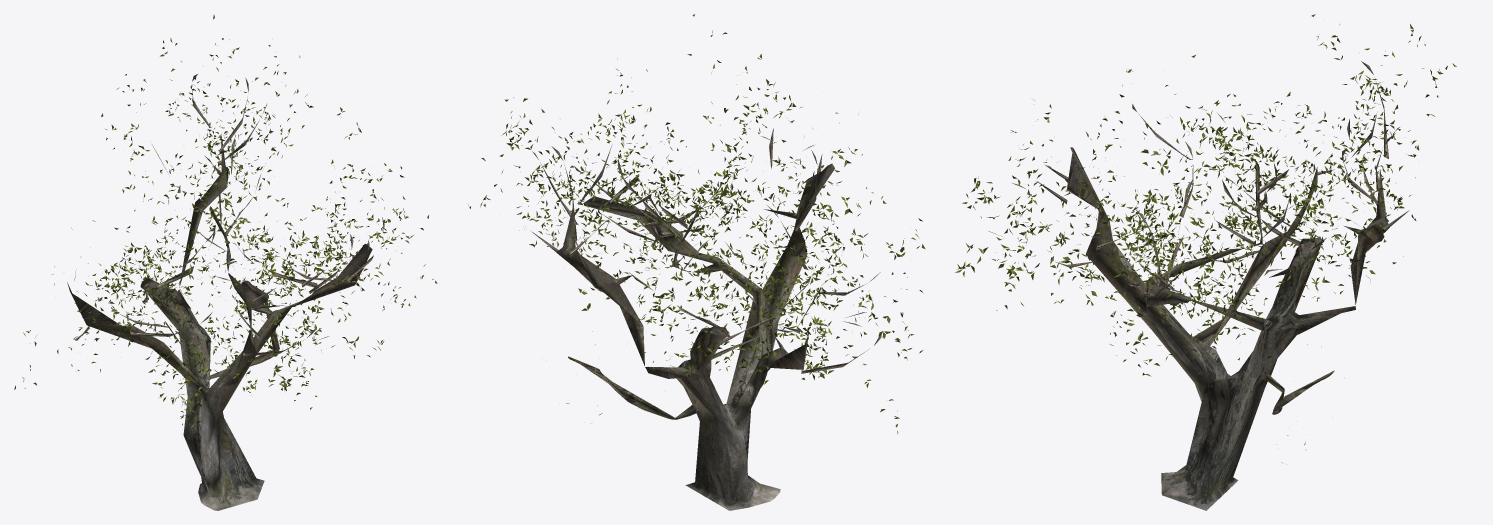
Rendered from island_tree_01.light.glb.
3 renders of one model, left to right at view 1: azimuth 30°, elevation 25°; view 2: azimuth 150°, elevation 25°; view 3: azimuth 270°, elevation 25°, orthographic. The views are drawn at different scales.
Visible parts, largest first — view 1: island_tree_01_LOD0; view 2: island_tree_01_LOD0; view 3: island_tree_01_LOD0.
Part boxes in pixels (left/top/right/bottom): island_tree_01_LOD0: left=14, top=15, right=437, bottom=510; island_tree_01_LOD0: left=467, top=14, right=925, bottom=510; island_tree_01_LOD0: left=955, top=14, right=1456, bottom=510.
Bounding box in the file's own units: 3.89 × 4.06 × 3.84.
Materials: 3 (3 with a texture image).
